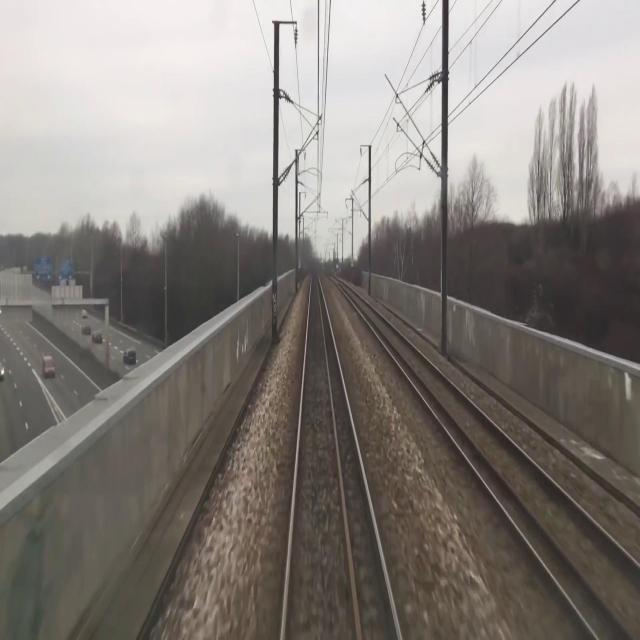rail-track: (284, 266, 397, 639)
